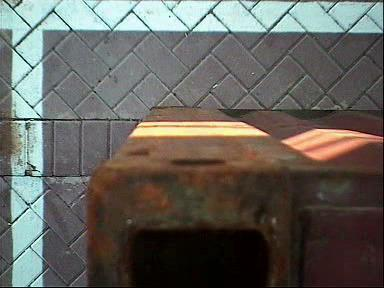groundmarker_2: (83, 92, 146, 139), (110, 228, 141, 274)
